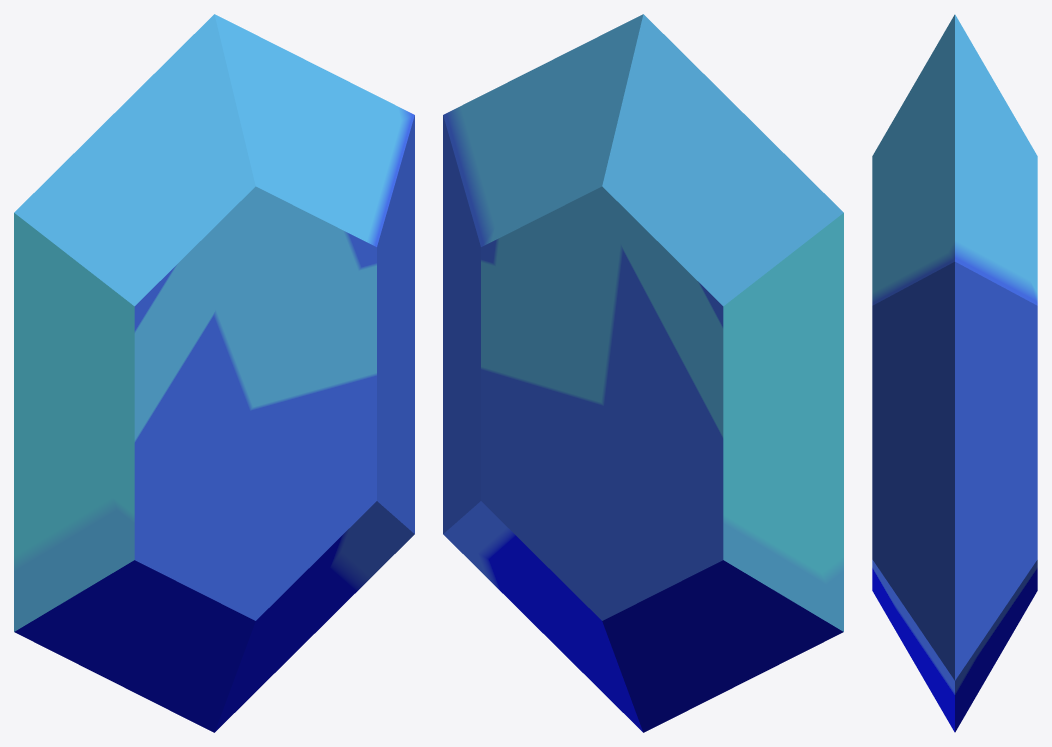
The model's file is crystal20.obj.
The picture shows the model from 3 angles, left to right: view 1: azimuth 30°, elevation 25°; view 2: azimuth 150°, elevation 25°; view 3: azimuth 270°, elevation 25°; orthographic projection.
Parts seen in each view (by area): view 1: Rupia_Cube.001; view 2: Rupia_Cube.001; view 3: Rupia_Cube.001.
Part boxes in pixels (x1,y1,x2,y2): Rupia_Cube.001: (14, 14, 414, 732); Rupia_Cube.001: (443, 14, 843, 732); Rupia_Cube.001: (872, 14, 1037, 732).
Size of the model in its own units: 9.05 by 15.51 by 3.23.
Materials: 1 (1 with a texture image).
